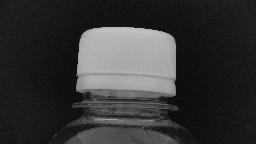Loose Cap: (66, 69, 184, 117)
